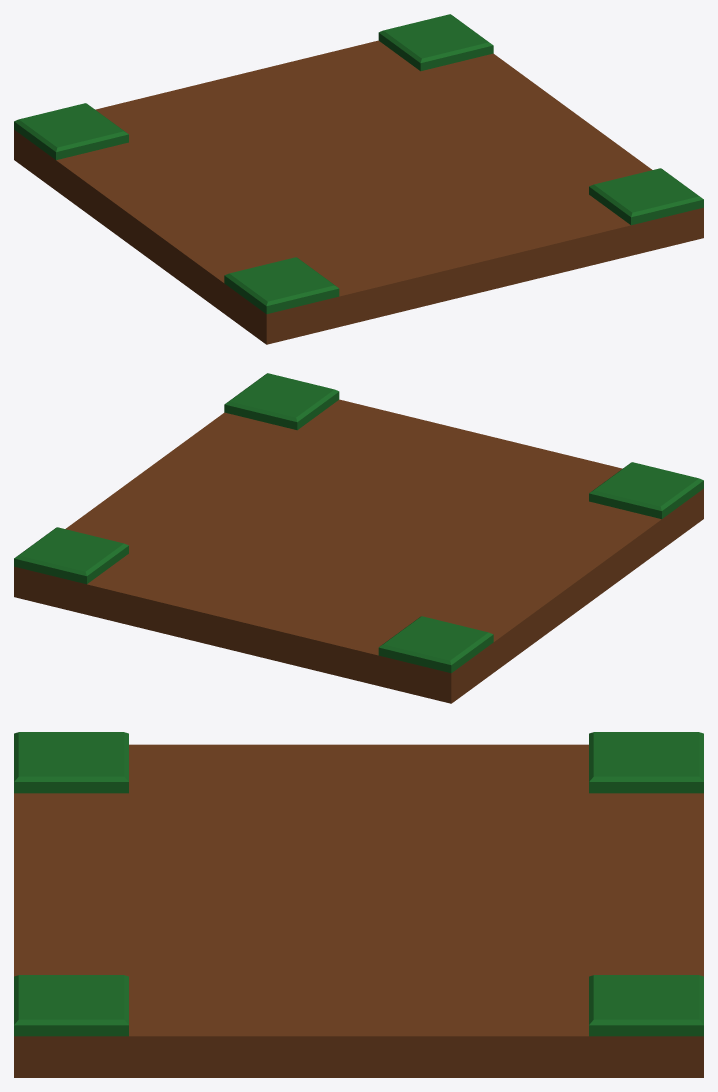
The model's file is dirttile2.glb.
3 views of the same model, one above another, from view 1: azimuth 30°, elevation 25°; view 2: azimuth 150°, elevation 25°; view 3: azimuth 270°, elevation 25° (orthographic). The views are drawn at different scales.
Parts seen in each view (by area): view 1: road2.002; view 2: road2.002; view 3: road2.002.
Part boxes in pixels (<box>): road2.002: <box>14,14,703,344</box>; road2.002: <box>14,373,703,703</box>; road2.002: <box>14,732,703,1077</box>.
Size of the model in its own units: 3 by 0.2695 by 3.
